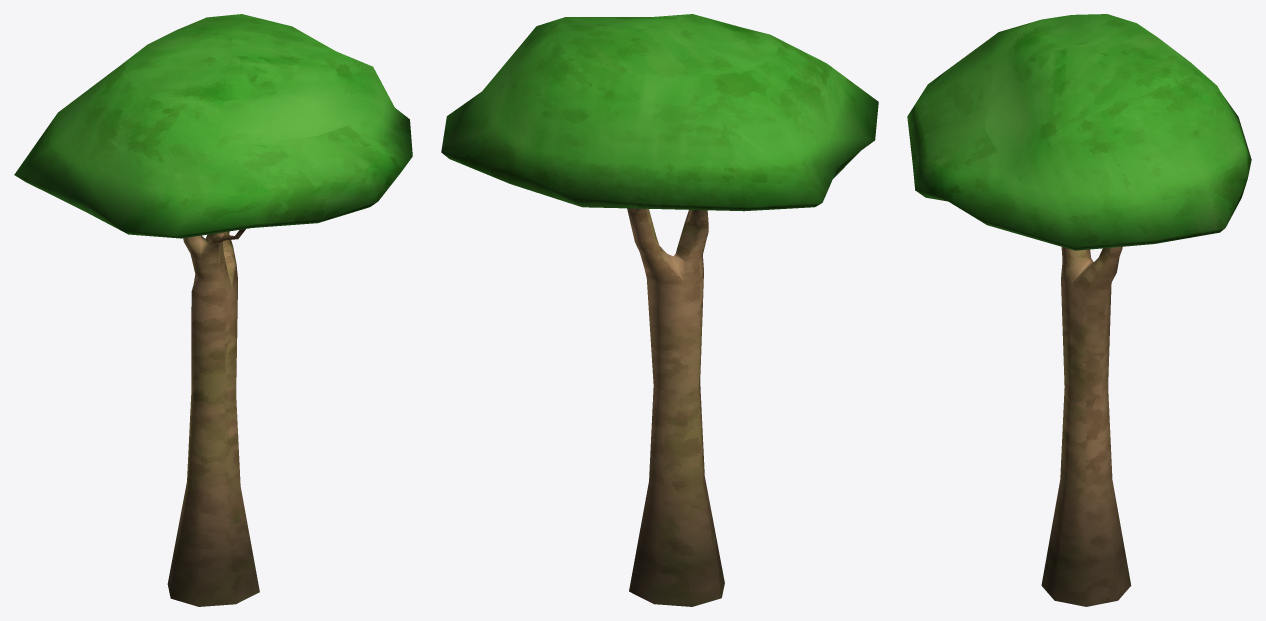
File: art_3D model_Environment_PohonMahoni 1.fbx
3 views of the same model, side by side, from view 1: azimuth 30°, elevation 25°; view 2: azimuth 150°, elevation 25°; view 3: azimuth 270°, elevation 25° (orthographic). The views are drawn at different scales.
Parts seen in each view (by area): view 1: mahorny; view 2: mahorny; view 3: mahorny.
Part boxes in pixels (x1=…): mahorny: x1=14, y1=14, x2=412, y2=606; mahorny: x1=441, y1=14, x2=878, y2=606; mahorny: x1=907, y1=14, x2=1251, y2=606.
Size of the model in its own units: 716 by 1022 by 585.
2 materials, 2 textured.
